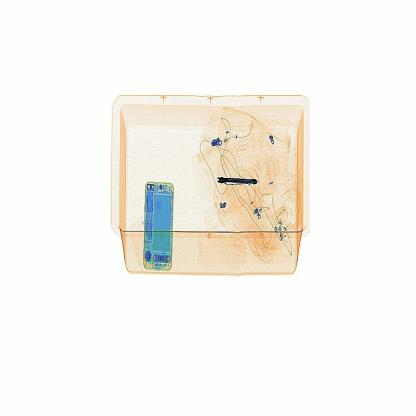knife: (217, 175, 259, 189)
